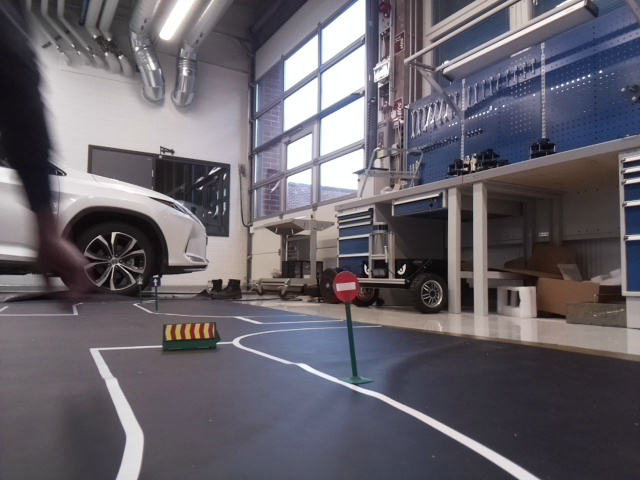ClosedRoadStand: (159, 322, 218, 342)
NoEntry: (332, 271, 358, 300)
